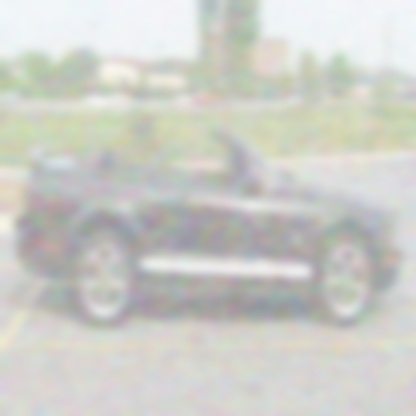Vehicle: (14, 93, 402, 328)
